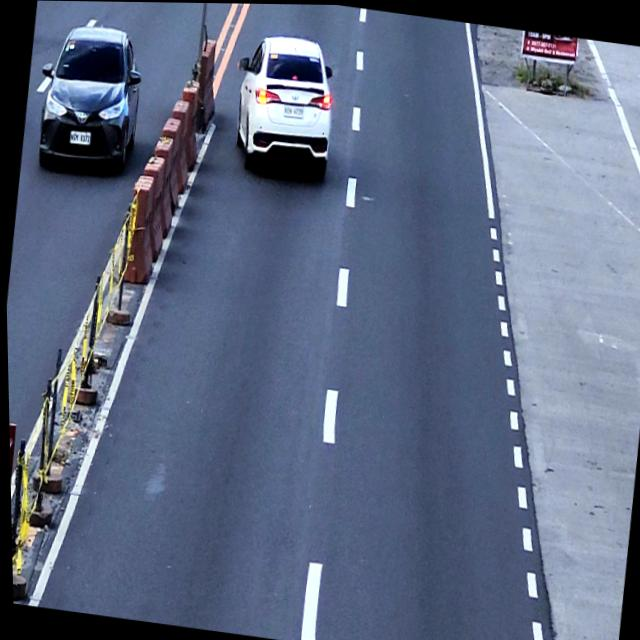Car: (28, 14, 149, 179), (223, 27, 342, 177)
License-Plate: (281, 102, 304, 120), (67, 129, 91, 146)
